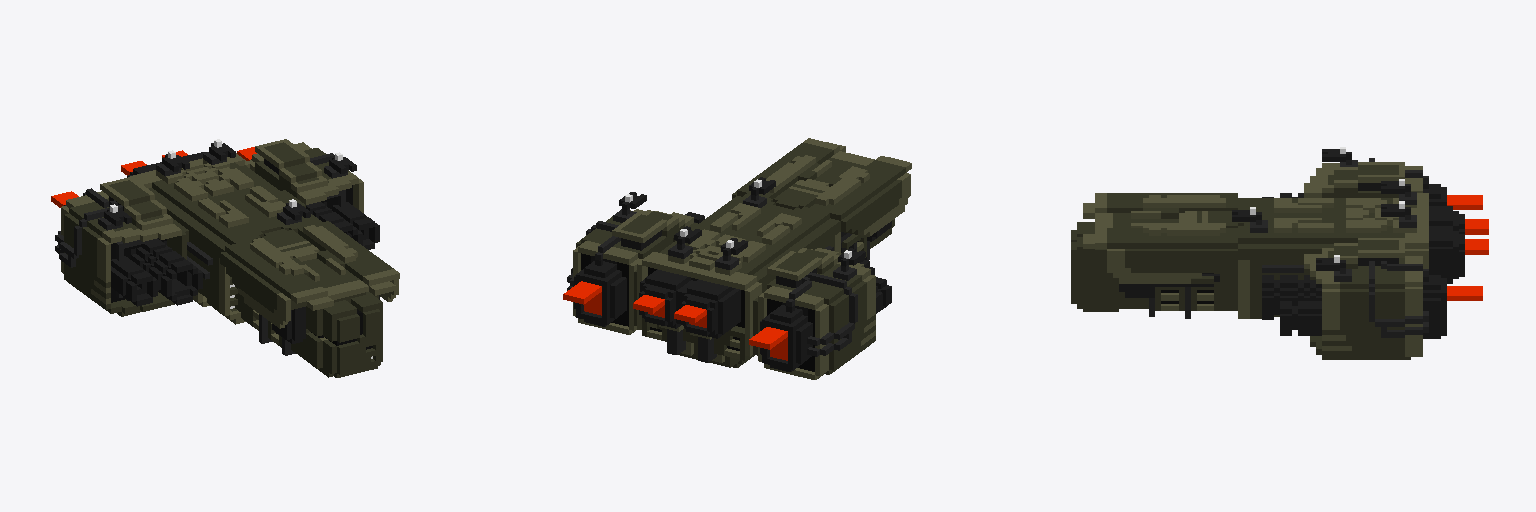
The picture shows the model from 3 angles: view 1: azimuth 30°, elevation 25°; view 2: azimuth 150°, elevation 25°; view 3: azimuth 270°, elevation 25°; orthographic projection.
Visible parts, largest first — view 1: object 1; view 2: object 1; view 3: object 1.
Boxes of the visible parts, box(x1,y1,x2,y2) form: object 1: box(51, 139, 399, 377); object 1: box(563, 138, 911, 379); object 1: box(1071, 147, 1488, 359).
Bounding box in the file's own units: 5.2 × 2.4 × 7.
Materials: 1 (1 with a texture image).